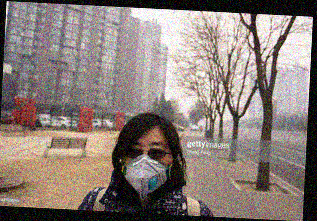with_mask: (120, 138, 172, 199)
